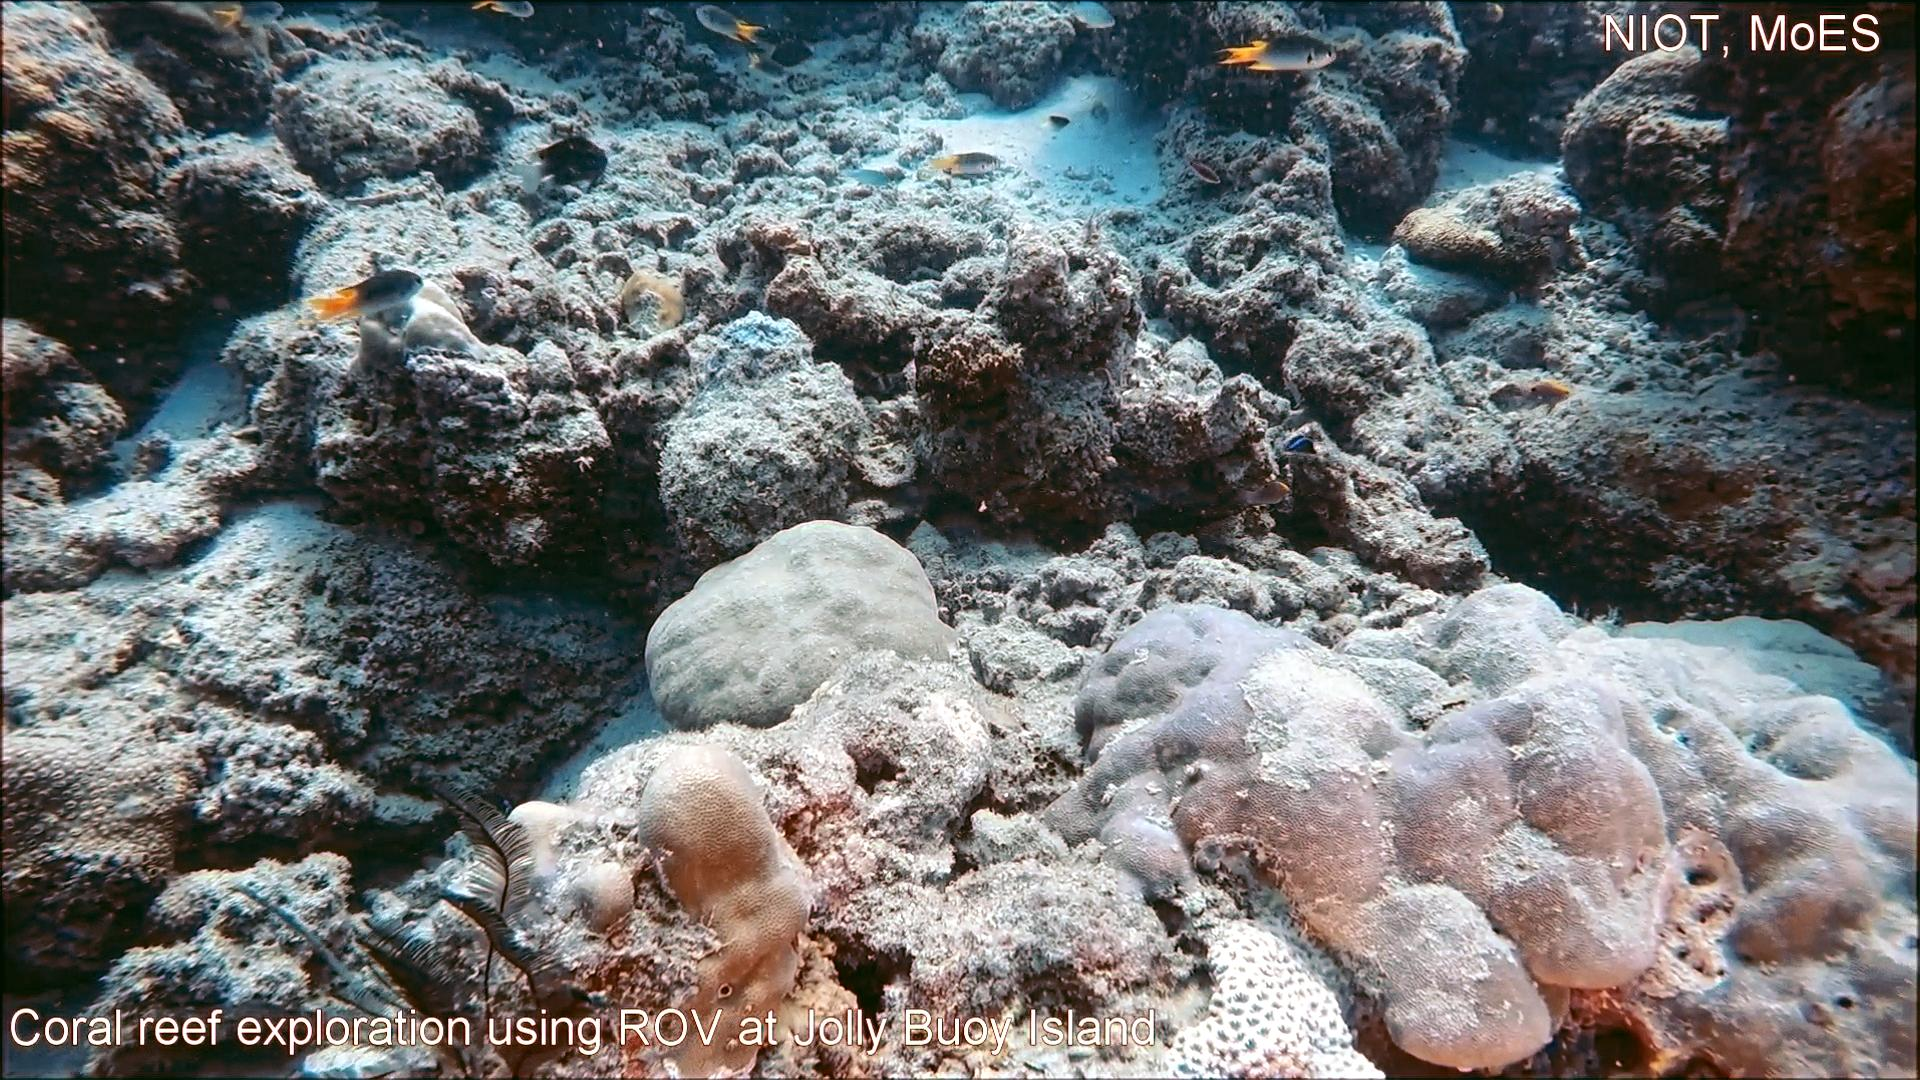Feather star-Crinoid star: (222, 770, 624, 1080)
Goniastrea-Goniastrea pectinata: (1146, 903, 1402, 1080)
Porites-Porites pukoensis: (1512, 574, 1920, 1080)
Turbinaria-Turbinaria stellulata: (0, 704, 211, 974)
